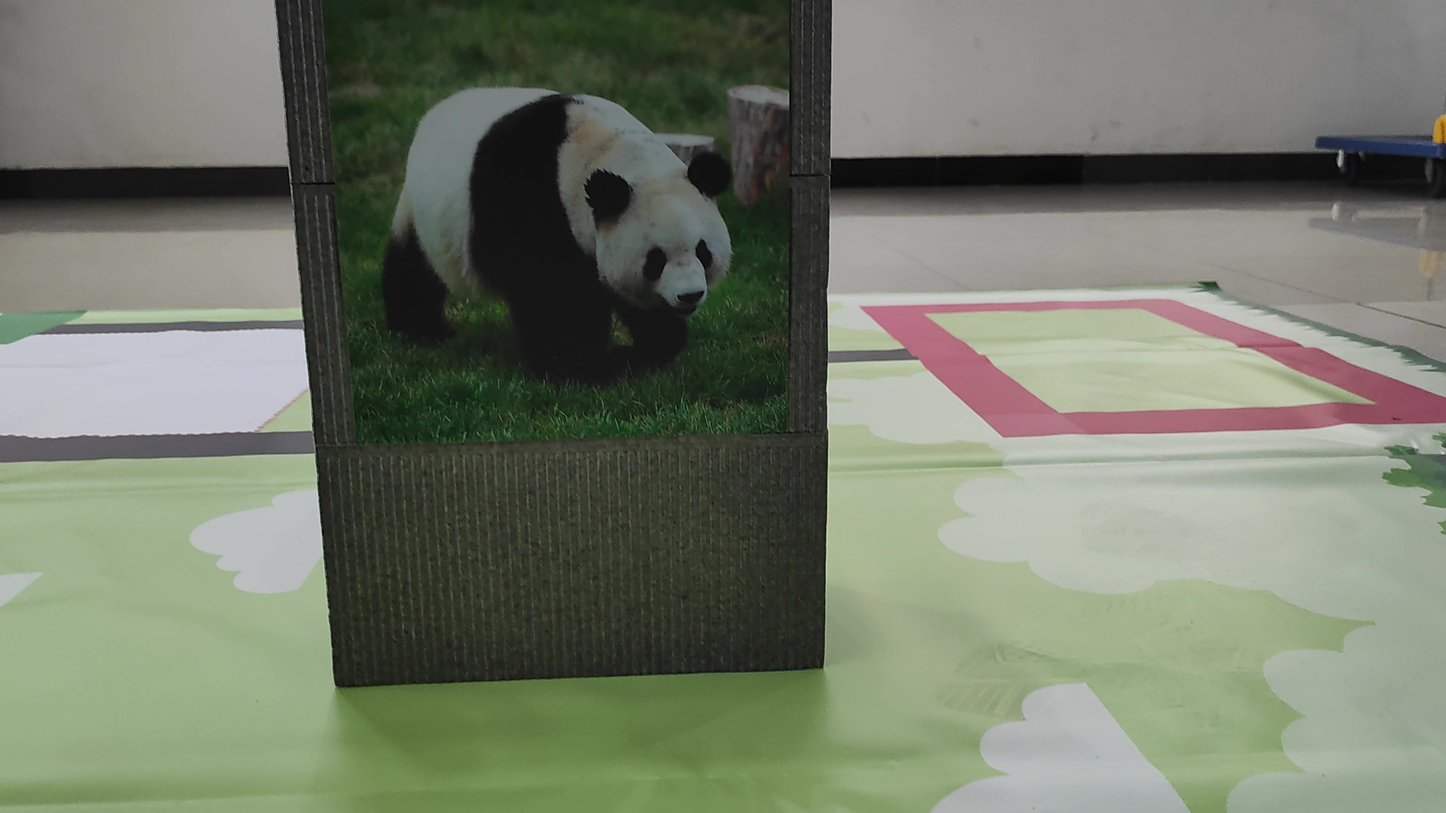panda: (357, 45, 758, 368)
